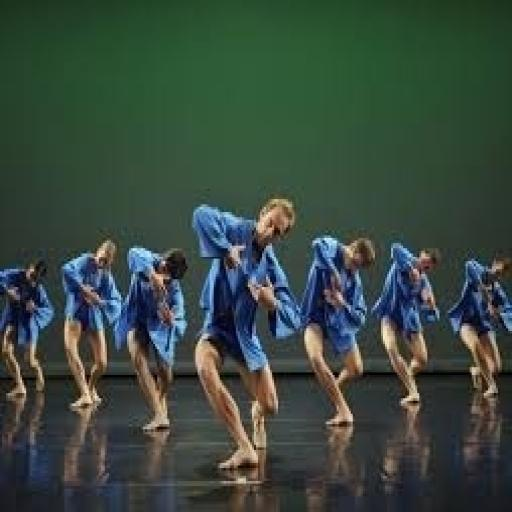dancing: (190, 194, 304, 476), (298, 230, 379, 432), (115, 240, 191, 437), (371, 238, 445, 411), (58, 236, 125, 416), (445, 246, 510, 403), (0, 253, 58, 403)
